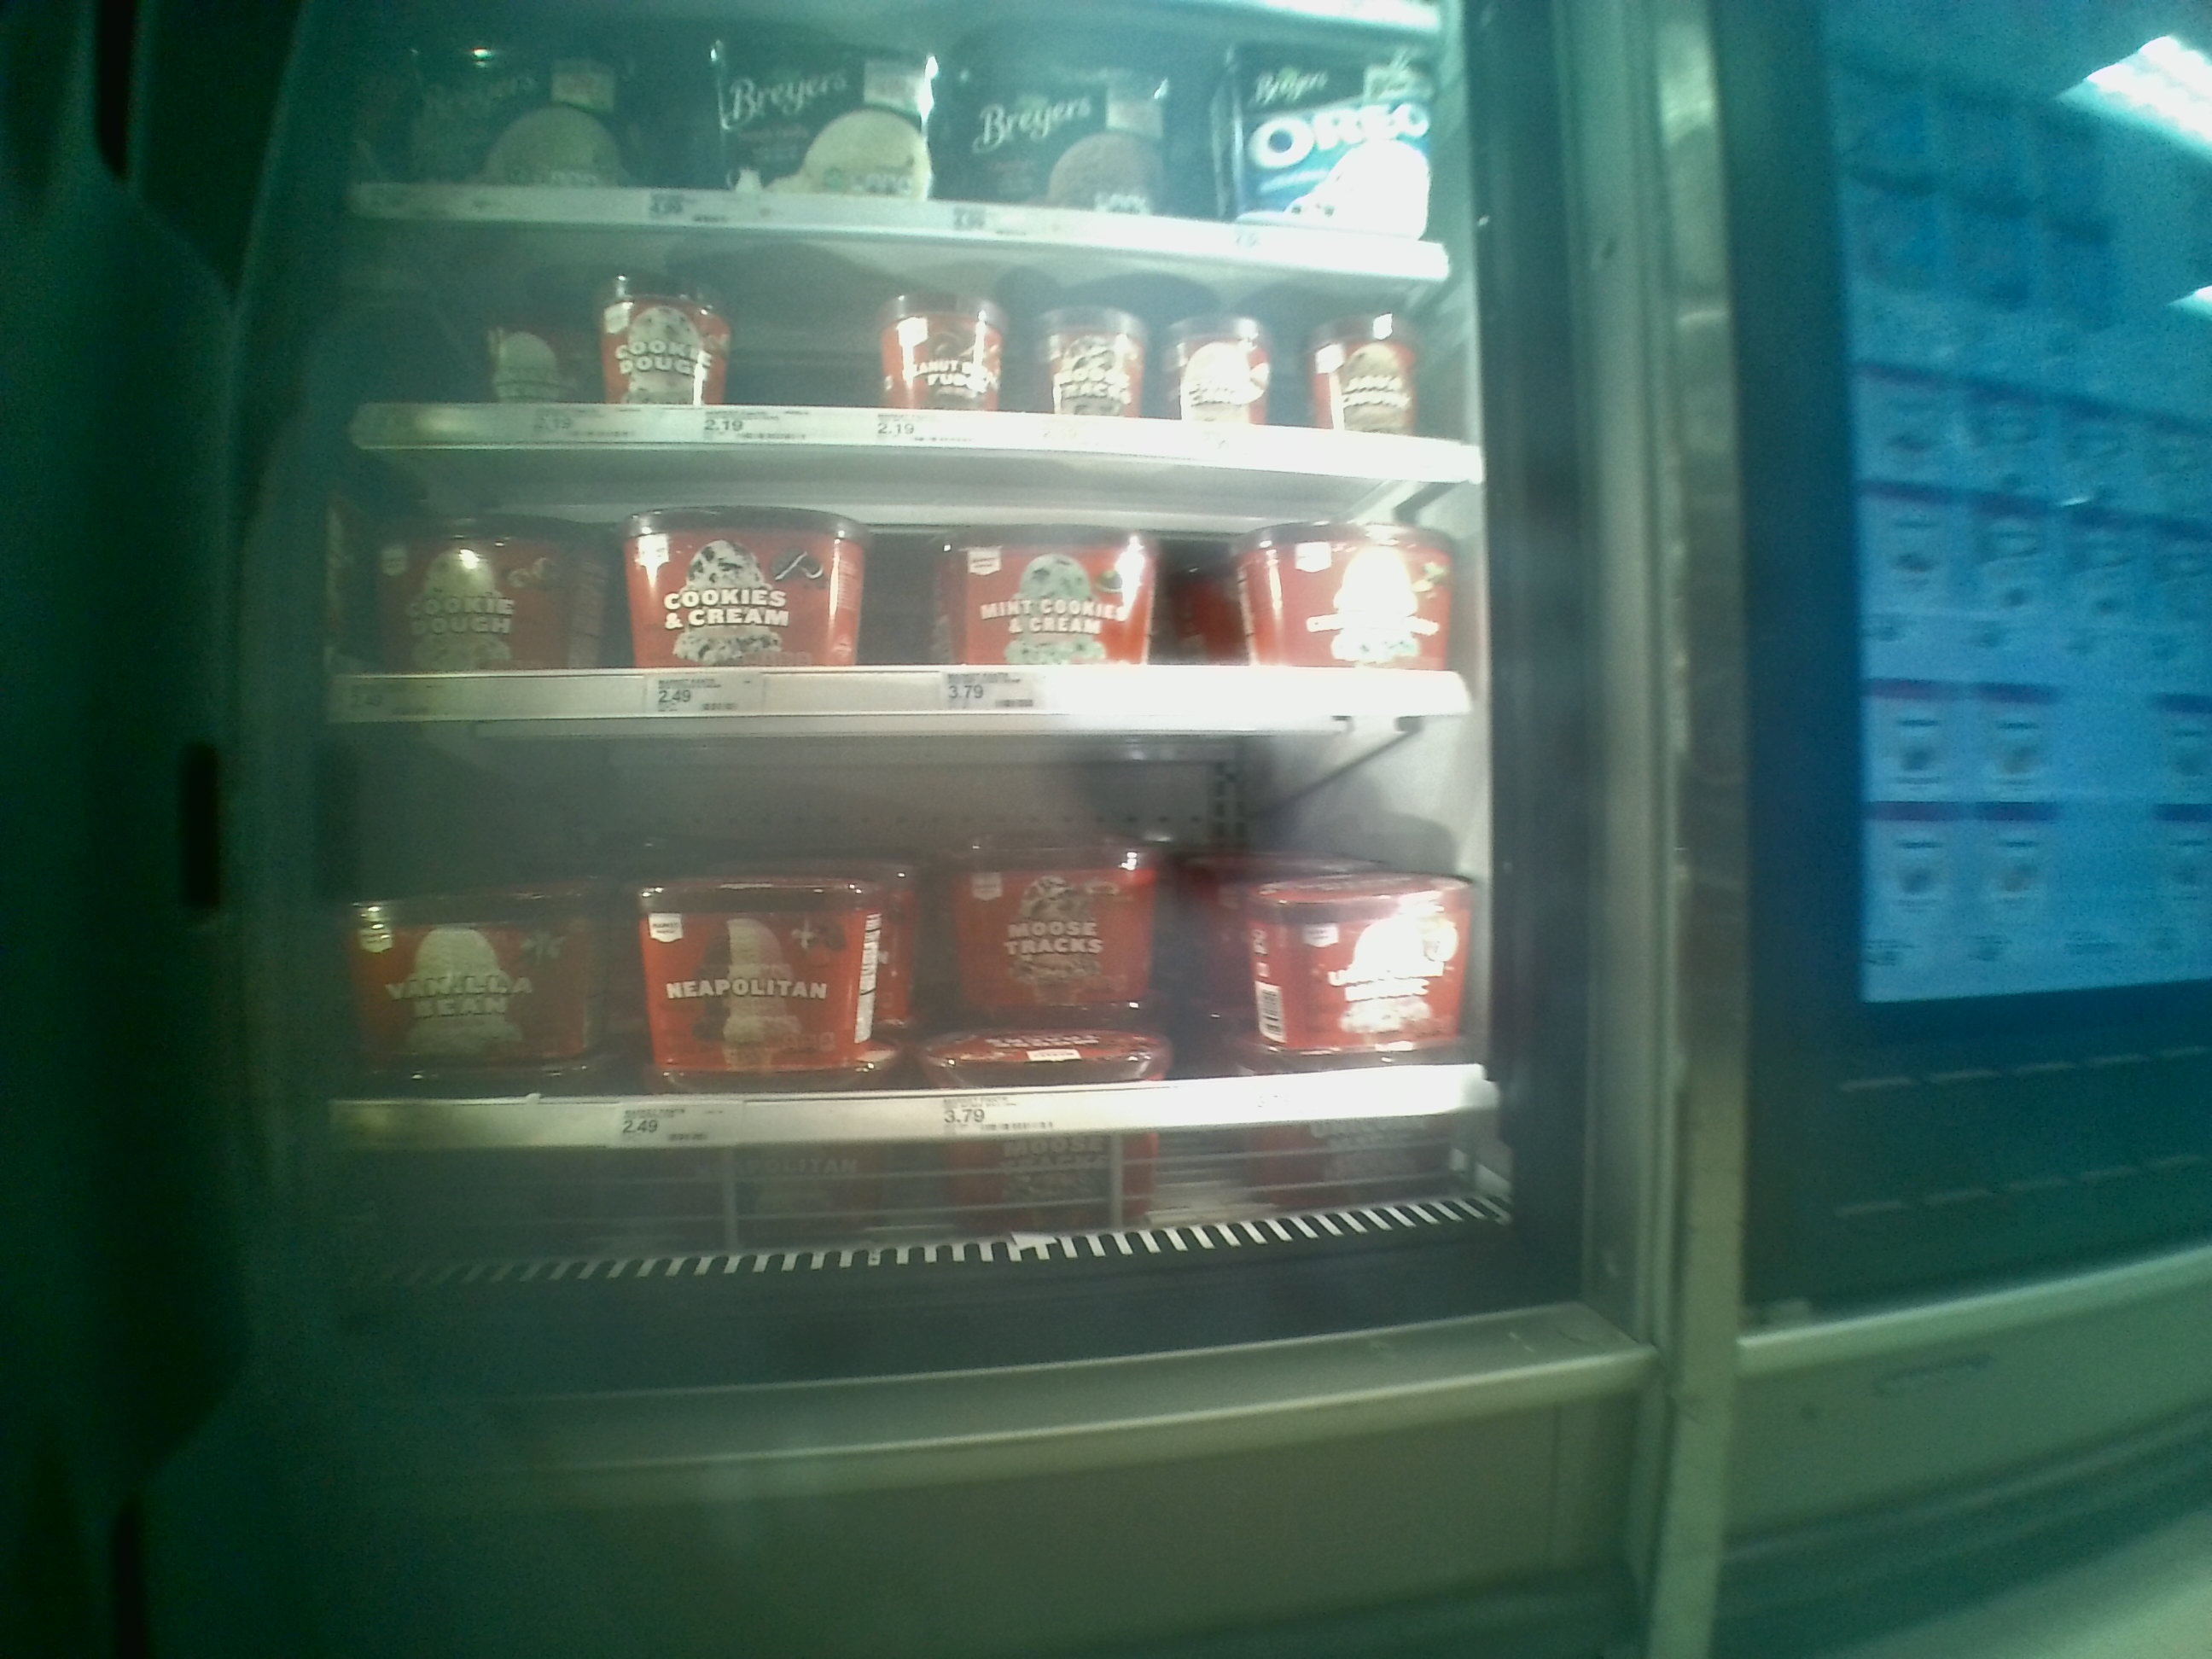ice-cream-shelf: (314, 765, 1500, 1159), (329, 220, 1467, 504), (314, 471, 1456, 751)
